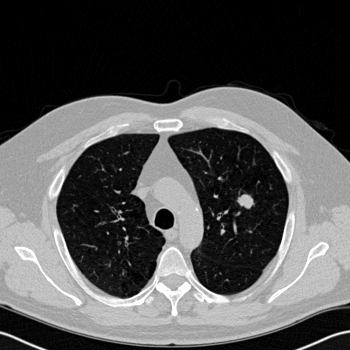nodule: (237, 193, 253, 209)
